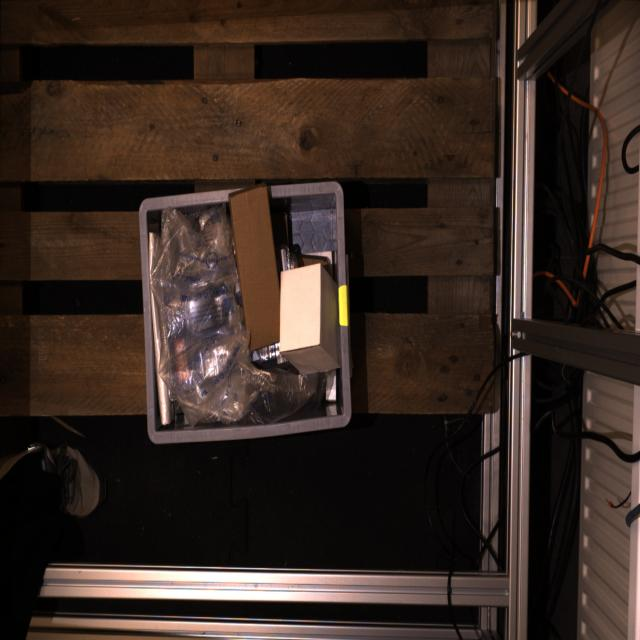CardboardBox: (229, 181, 280, 350), (280, 263, 340, 374), (326, 370, 336, 401)
Package: (151, 298, 174, 425), (150, 235, 155, 260)
PackagingAirBags: (151, 206, 318, 425)
